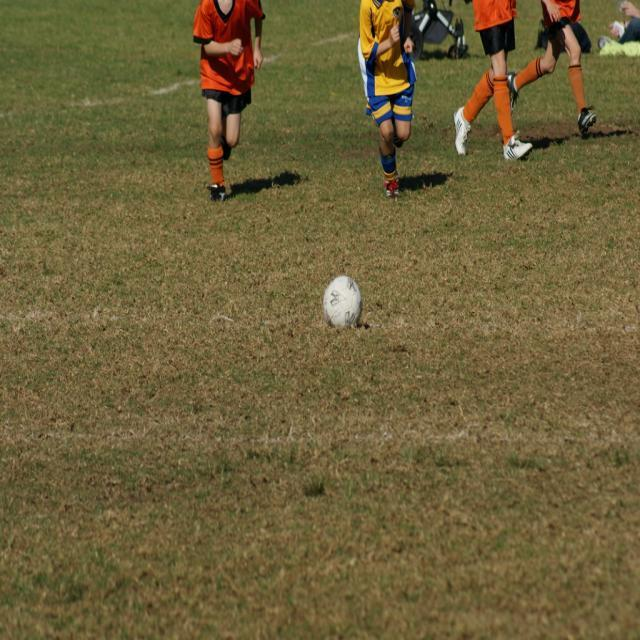football: (317, 258, 374, 342)
